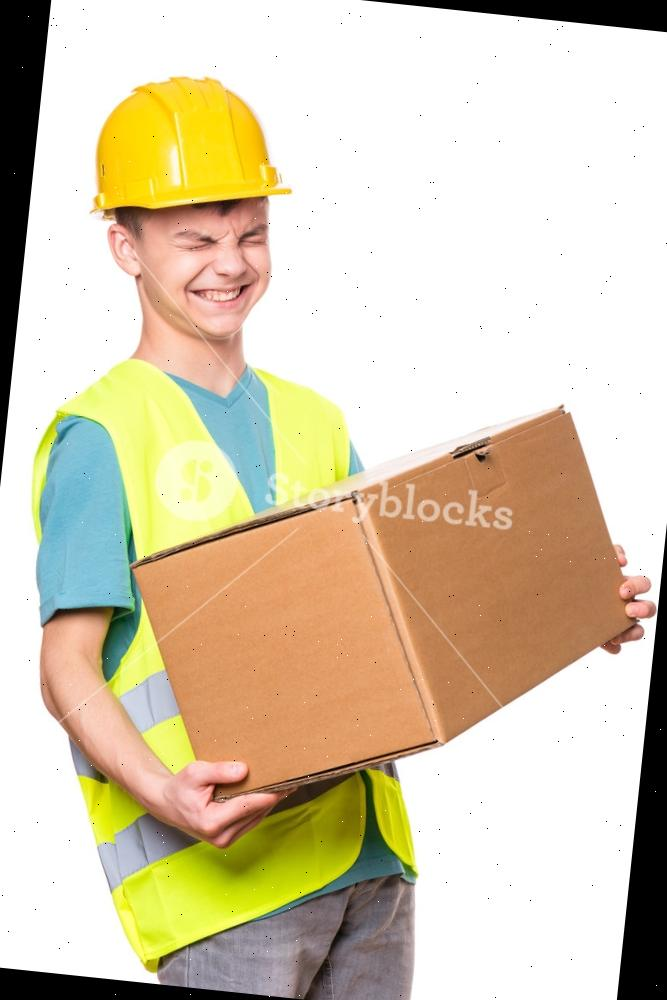helmet: (81, 64, 304, 247)
wear: (16, 365, 442, 932)
